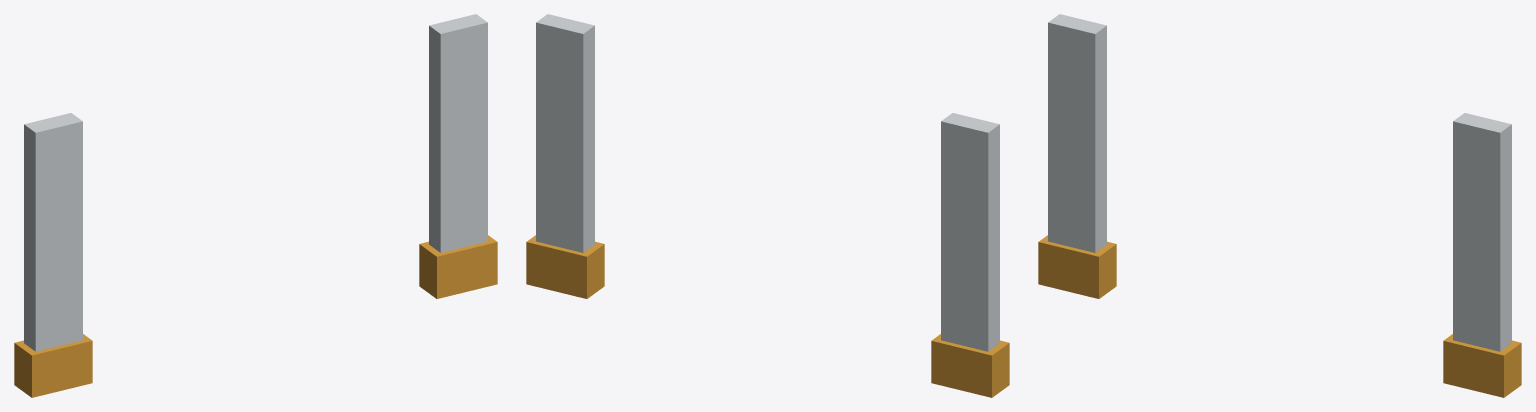
Rendered from body.obj.
3 views of the same model, side by side, from view 1: azimuth 30°, elevation 25°; view 2: azimuth 150°, elevation 25°; view 3: azimuth 330°, elevation 25° (orthographic).
Bounding box in the file's own units: 1.38 × 0.74 × 0.09.
